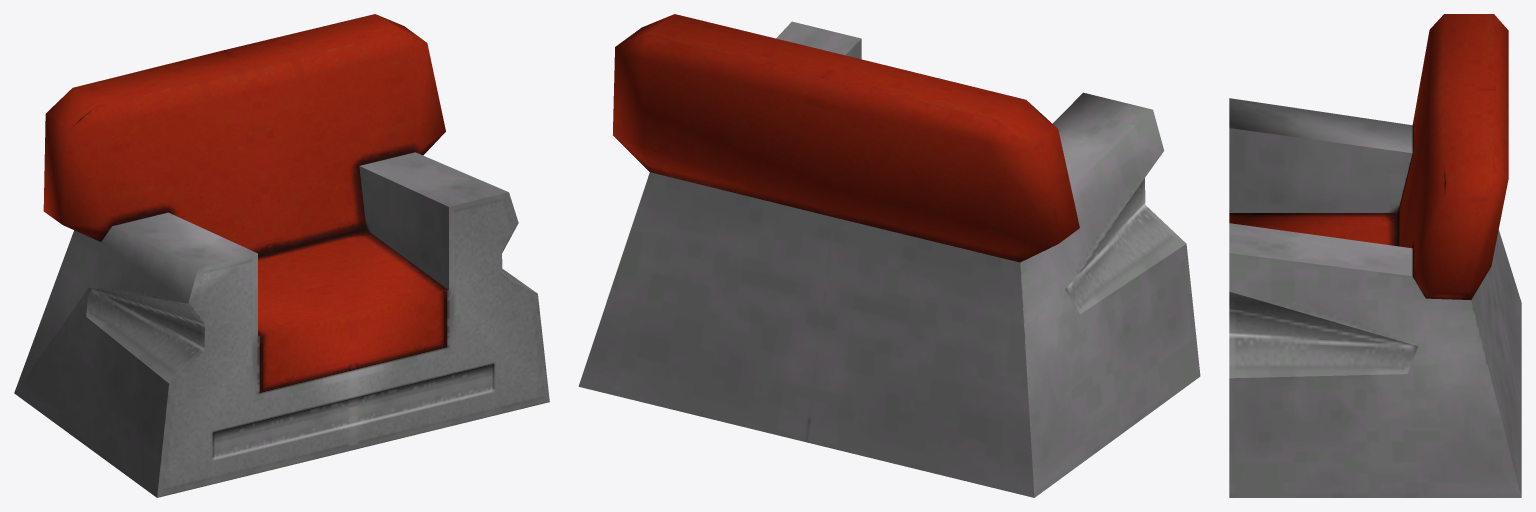
File: eqp_jedi_council_seat_s1_l1.fbx
3 views of the same model, side by side, from view 1: azimuth 30°, elevation 25°; view 2: azimuth 150°, elevation 25°; view 3: azimuth 270°, elevation 25° (orthographic). The views are drawn at different scales.
Parts seen in each view (by area): view 1: mesh_node; view 2: mesh_node; view 3: mesh_node.
Boxes of the visible parts, box(x1,y1,x2,y2) form: mesh_node: box(14, 14, 549, 497); mesh_node: box(578, 14, 1200, 497); mesh_node: box(1229, 14, 1521, 497).
Size of the model in its own units: 1.59 by 1.17 by 1.
